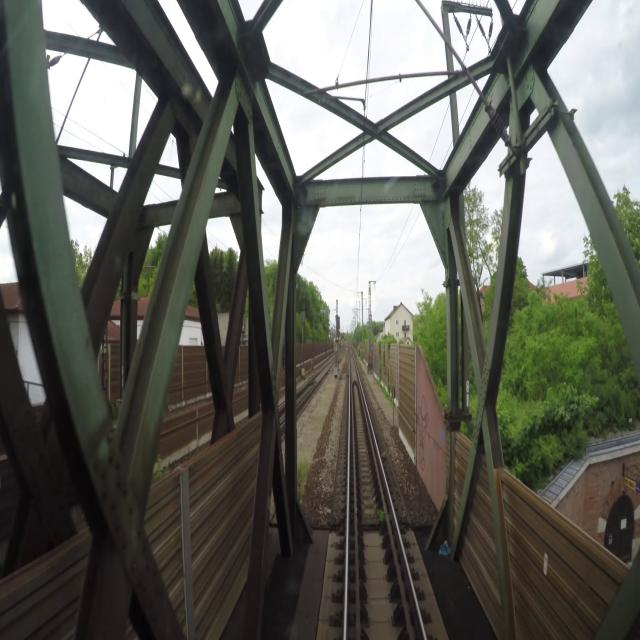rail-track: (353, 383, 406, 639), (387, 496, 422, 639), (348, 484, 353, 639), (351, 356, 357, 379)
